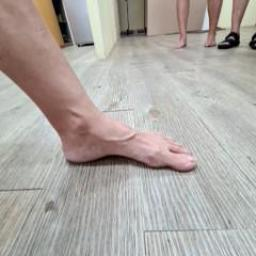Medial View -Left Foot-: (38, 93, 216, 192)
